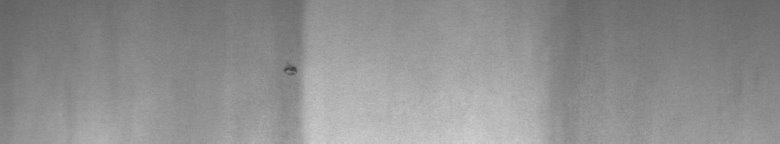fi: (283, 56, 298, 80)
